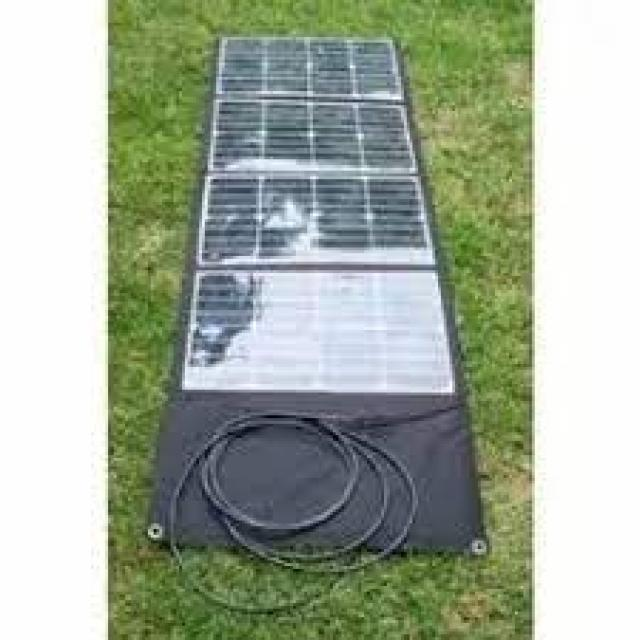faulty: (176, 267, 459, 396), (199, 174, 440, 263), (209, 99, 423, 172), (219, 35, 405, 100)
